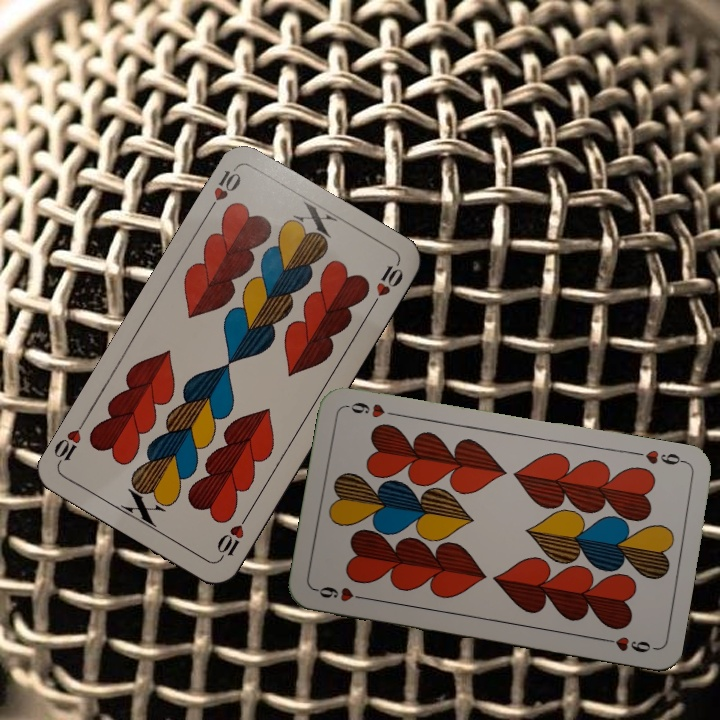H10: (203, 163, 244, 217), (212, 509, 252, 563)
H9: (312, 582, 371, 604), (642, 445, 689, 468)
